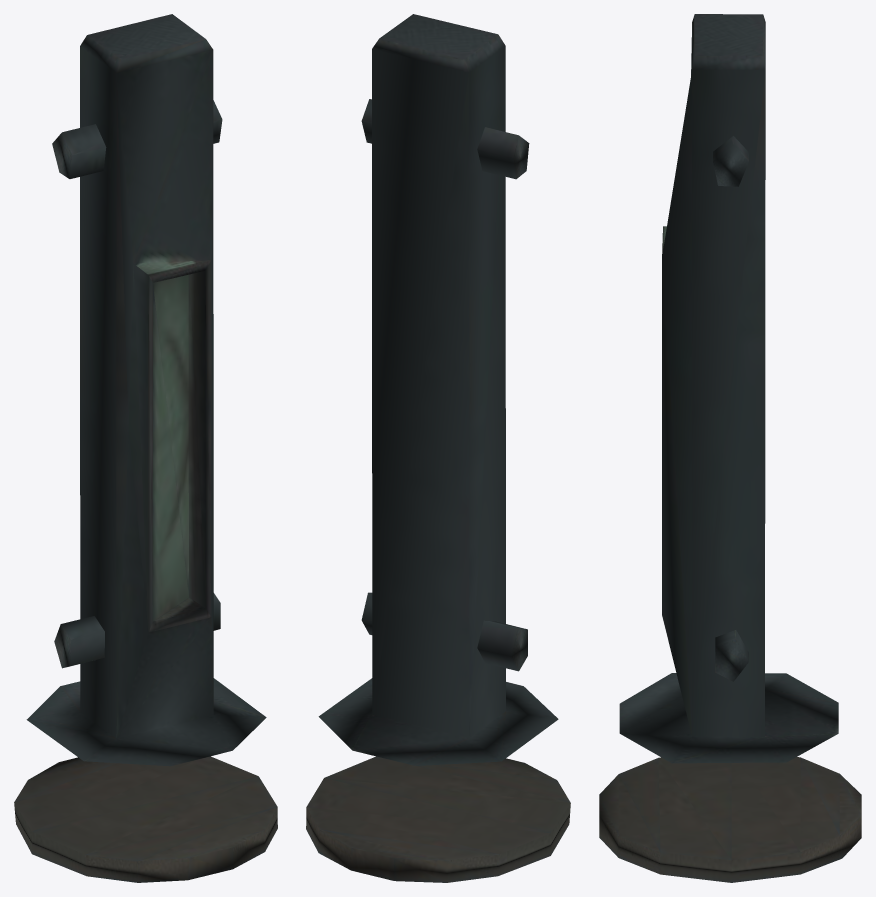
3 renders of one model, left to right at view 1: azimuth 30°, elevation 25°; view 2: azimuth 150°, elevation 25°; view 3: azimuth 270°, elevation 25°, orthographic.
Bounding box in the file's own units: 0.3 × 1 × 0.3.
Materials: 1 (1 with a texture image).
